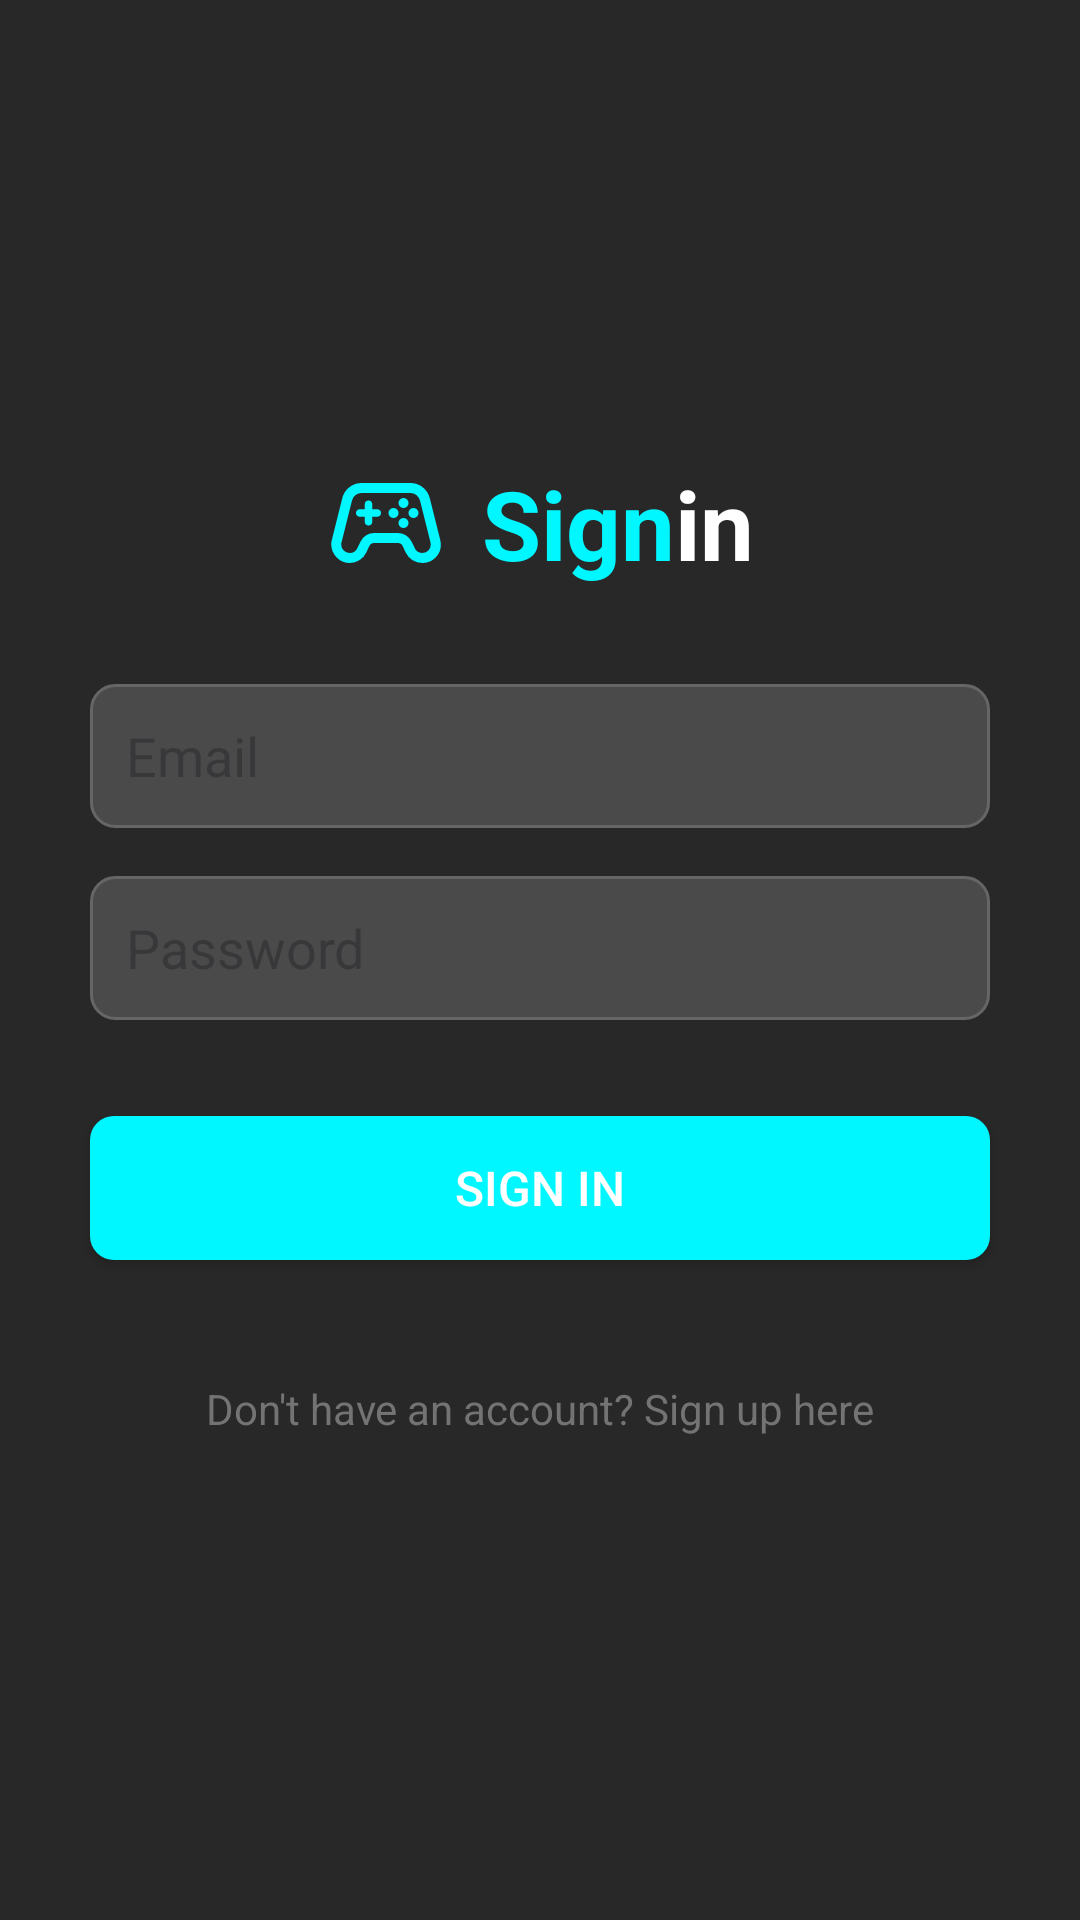

Screen size 1080w x 1920h. Icon name, then its center in pixels as (x,y):
Game Controller: (386,523)
